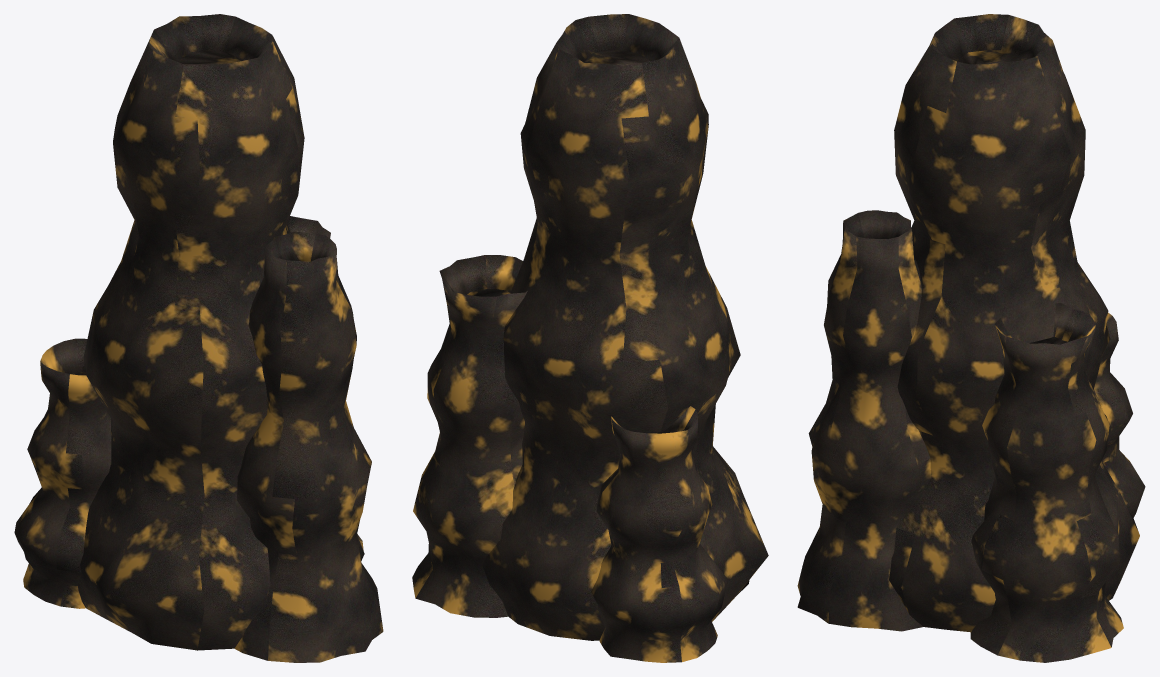
Rendered from respiradero.fbx.
3 views of the same model, side by side, from view 1: azimuth 30°, elevation 25°; view 2: azimuth 150°, elevation 25°; view 3: azimuth 270°, elevation 25° (orthographic). The views are drawn at different scales.
Parts seen in each view (by area): view 1: respiradero; view 2: respiradero; view 3: respiradero.
Part boxes in pixels (<box>): respiradero: <box>14,14,383,662</box>; respiradero: <box>412,14,768,662</box>; respiradero: <box>797,14,1145,662</box>.
Size of the model in its own units: 1.93 by 3.2 by 1.87.
Materials: 1 (1 with a texture image).
